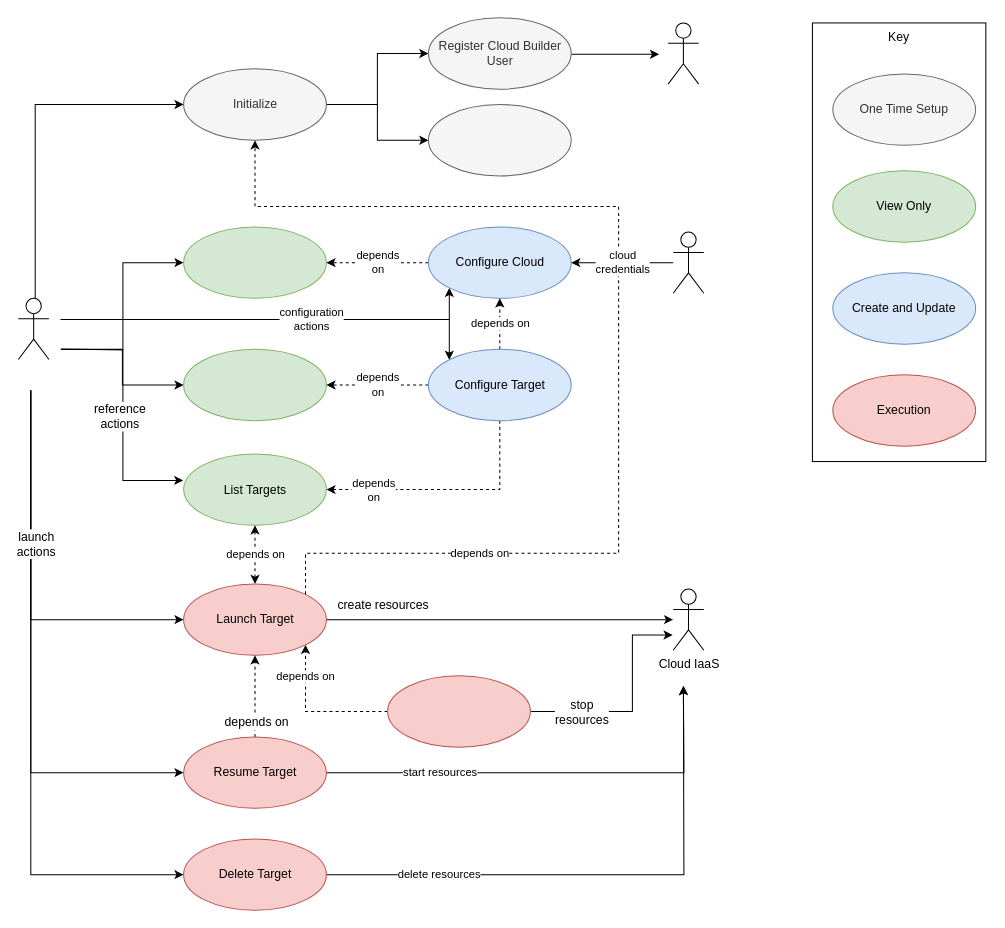
The diagram is 1005 pixels wide and 928 high, and some of its shapes have lost their labels. The centre of each missing label's shape, as x and y in pixels:
Client: the point at 33,328
Cloud Builder Services: the point at 683,53
Cloud SSO: the point at 688,262
Create Encryption Keys: the point at 499,140
Hibernate Target: the point at 458,711
List Clouds: the point at 254,262
List Recipes: the point at 254,384
